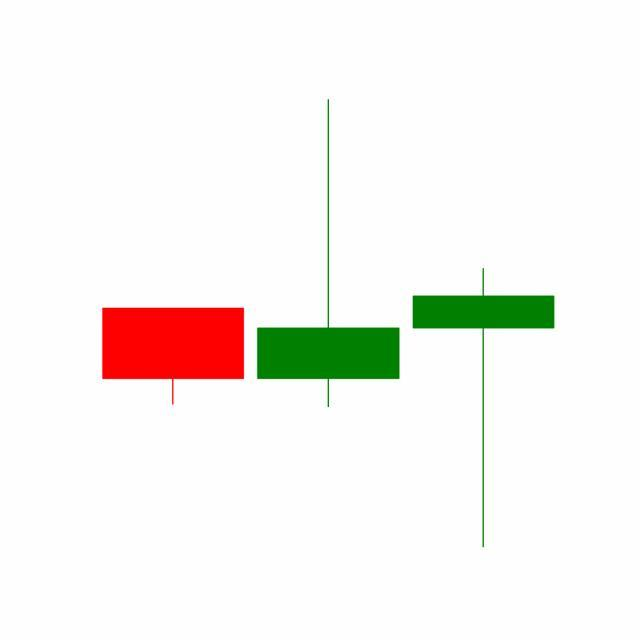Hammer: (406, 265, 562, 551)
